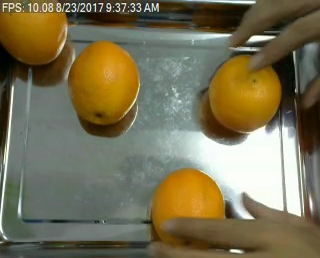Orange: (68, 41, 139, 124)
